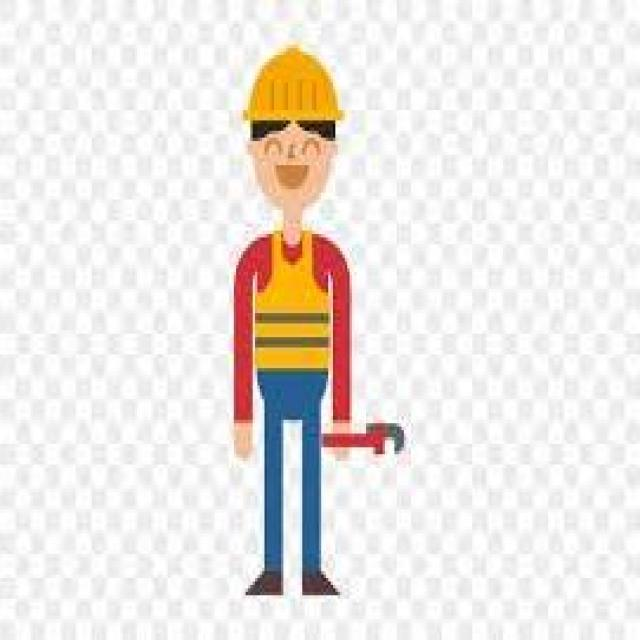Reflective-Jacket: (226, 224, 364, 406)
Safety-Helmet: (231, 38, 352, 141)
